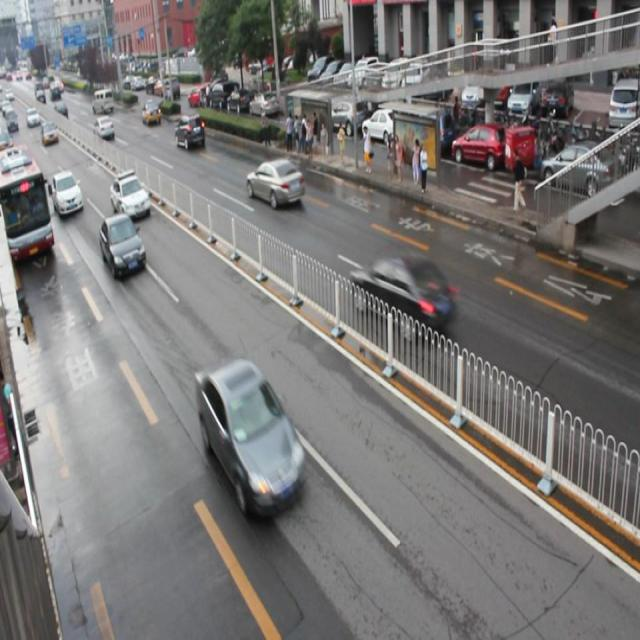car: (195, 358, 307, 518), (350, 258, 455, 342), (246, 157, 304, 207), (99, 215, 146, 276), (110, 170, 149, 220), (53, 170, 83, 216), (174, 114, 205, 148)
van: (0, 144, 54, 260)
